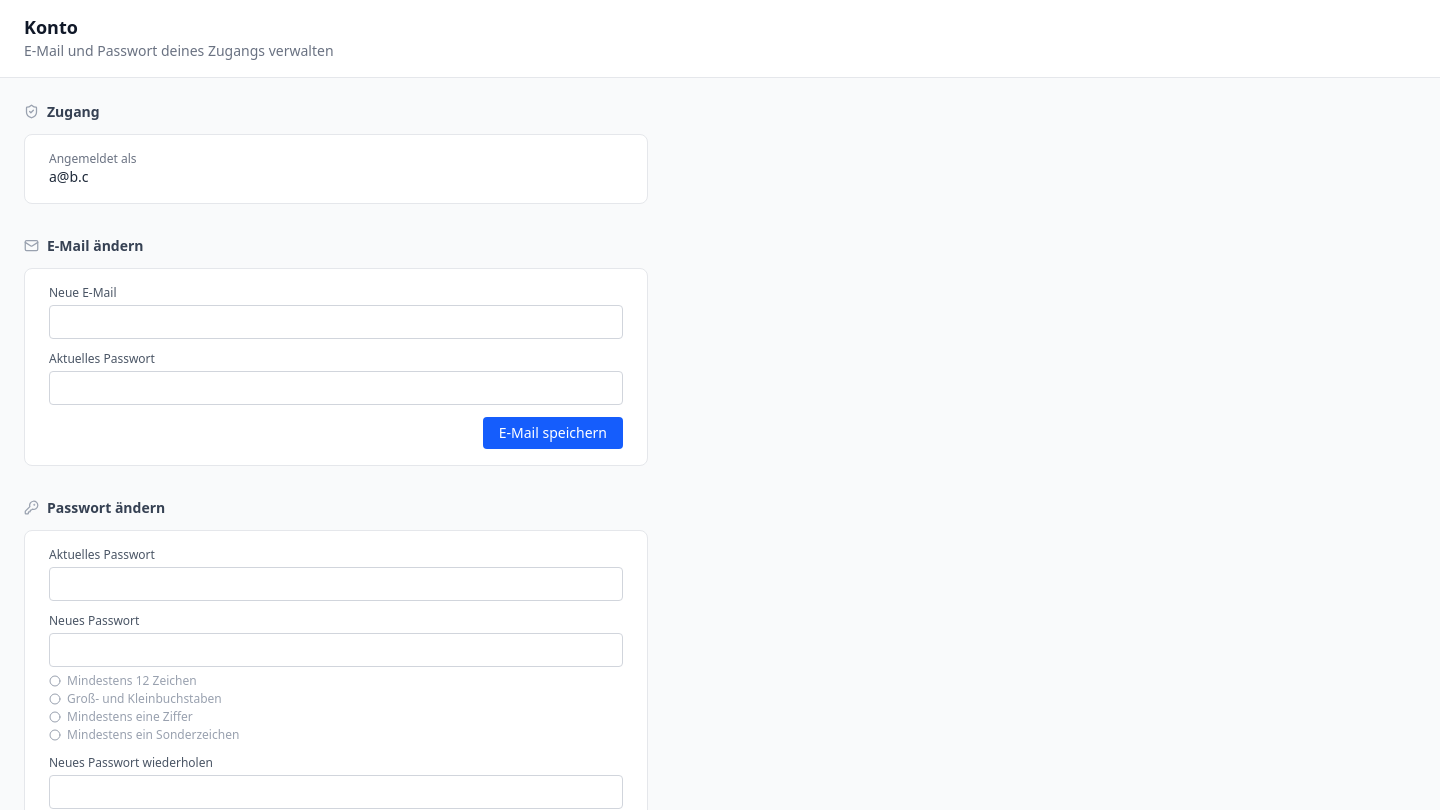
Test: AccountPage password change › rejects a wrong current password and does not PATCH
Expected: the text "Angemeldet als" is shown, top-left (49, 150), bottom-right (136, 166)
Type "wrong-one" into the password field with id "acc-cur-pw". click: (336, 584)
box: top-left (49, 566), bottom-right (623, 600)
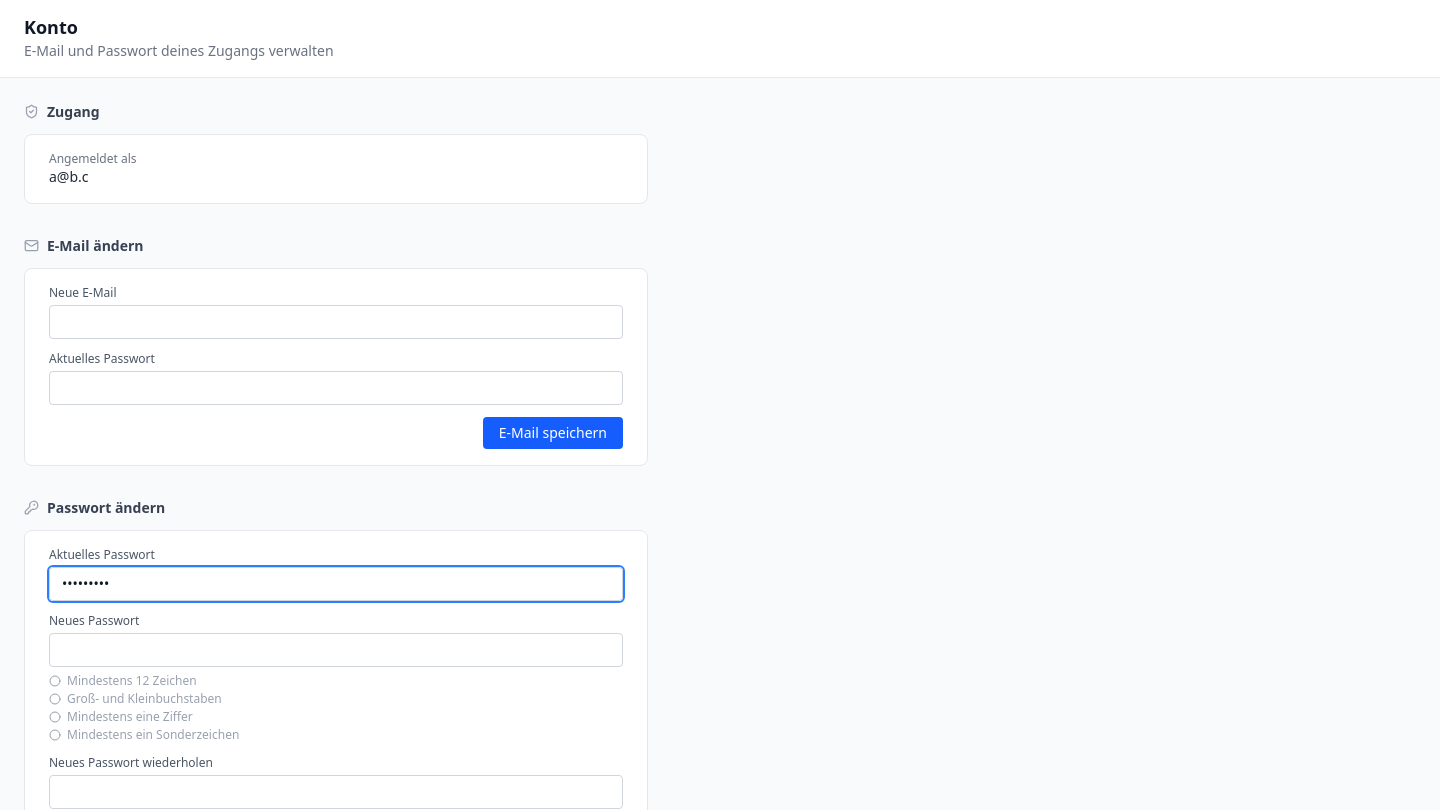
Type "Pw123456789!" into the password field with id "acc-new-pw". click: (336, 650)
box: top-left (49, 632), bottom-right (623, 666)
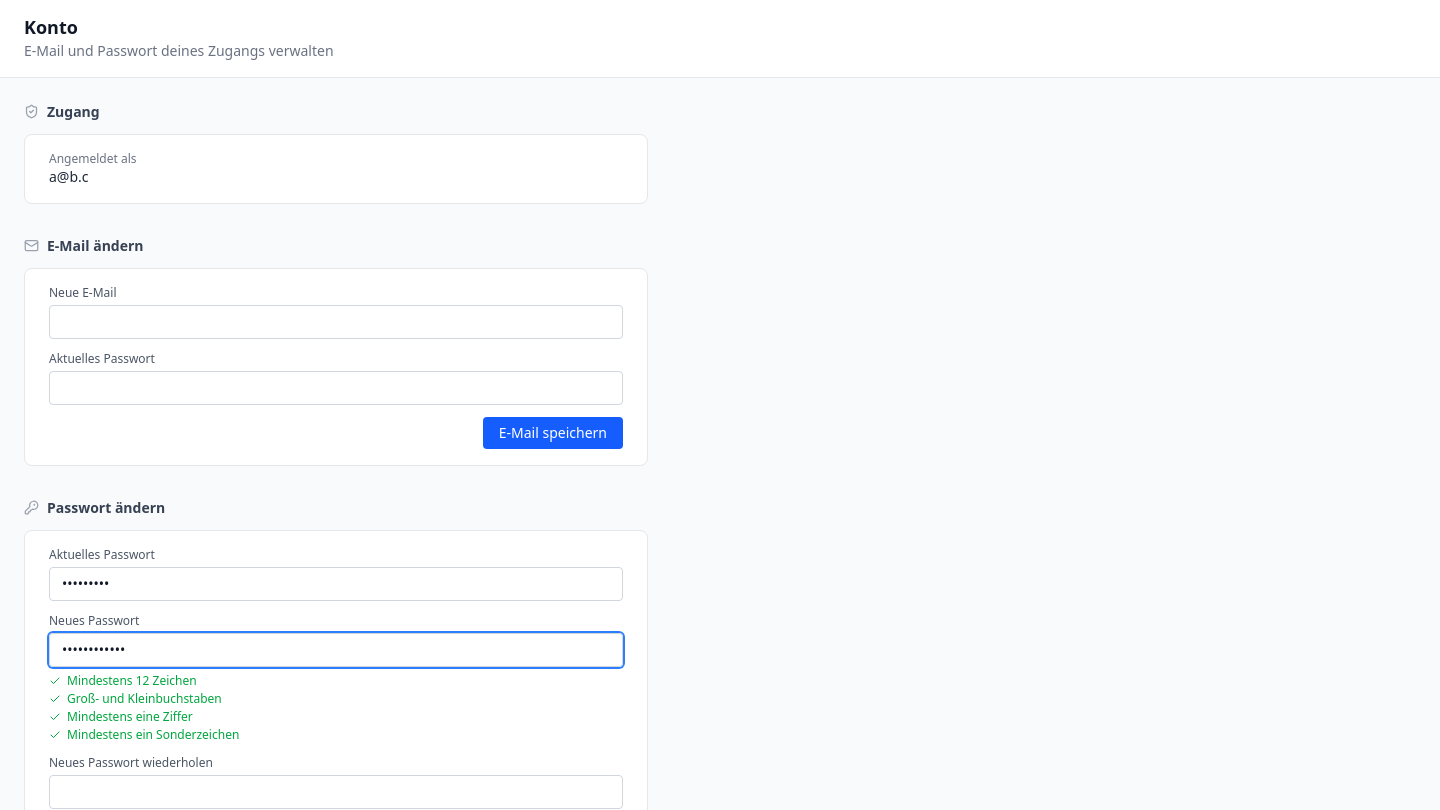
Type "Pw123456789!" into the password field with id "acc-new-pw2". click: (336, 792)
box: top-left (49, 774), bottom-right (623, 808)
(page scrolled)
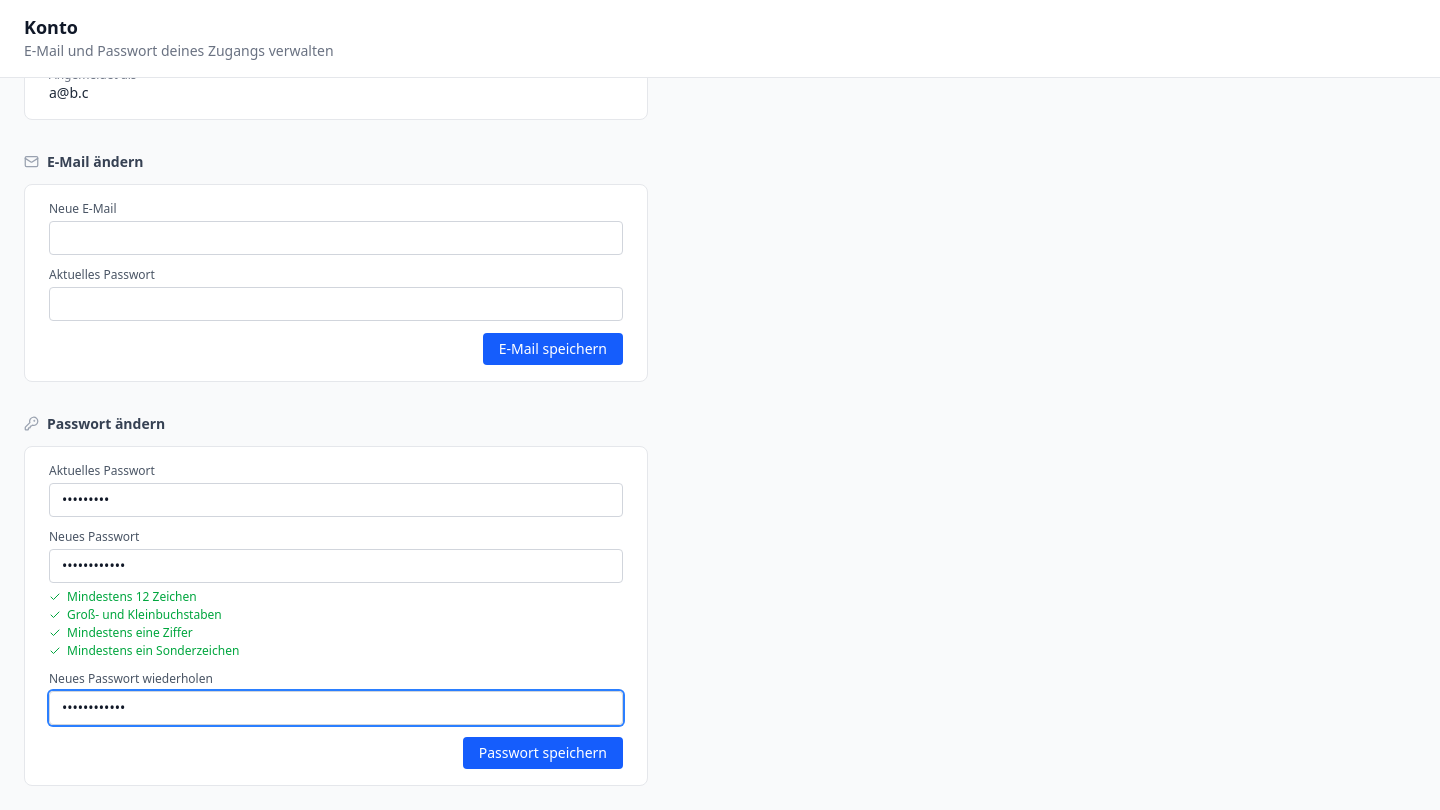
Click the button "Passwort speichern". click: (543, 752)
box: top-left (463, 736), bottom-right (623, 768)
(page scrolled)
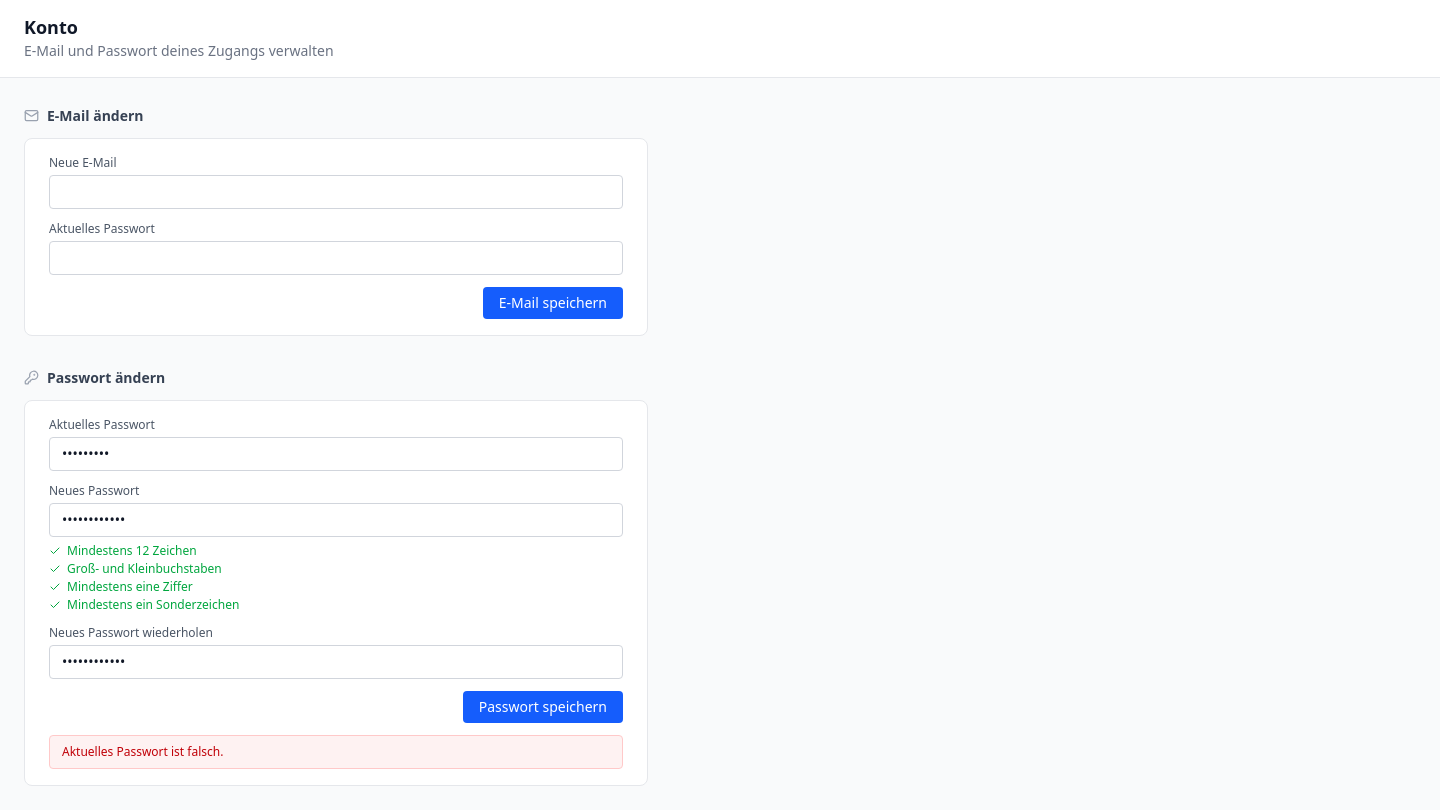
Expected: the text "Aktuelles Passwort ist falsch." is shown, top-left (49, 734), bottom-right (623, 768)
